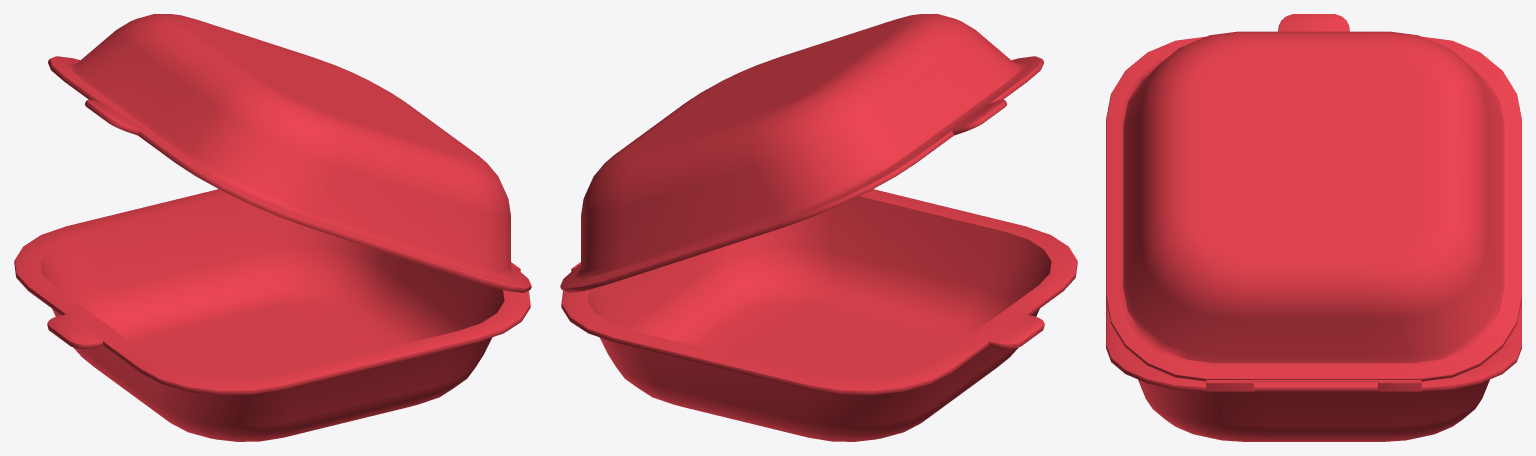
File: ambalaj_acik.fbx
The picture shows the model from 3 angles, left to right: view 1: azimuth 30°, elevation 25°; view 2: azimuth 150°, elevation 25°; view 3: azimuth 270°, elevation 25°; orthographic projection. The views are drawn at different scales.
Visible parts, largest first — view 1: kap; view 2: kap; view 3: kap.
Part boxes in pixels (x1,y1,x2,y2): kap: (14, 14, 531, 441); kap: (560, 14, 1077, 441); kap: (1106, 14, 1521, 441).
Bounding box in the file's own units: 257 × 200 × 238.
